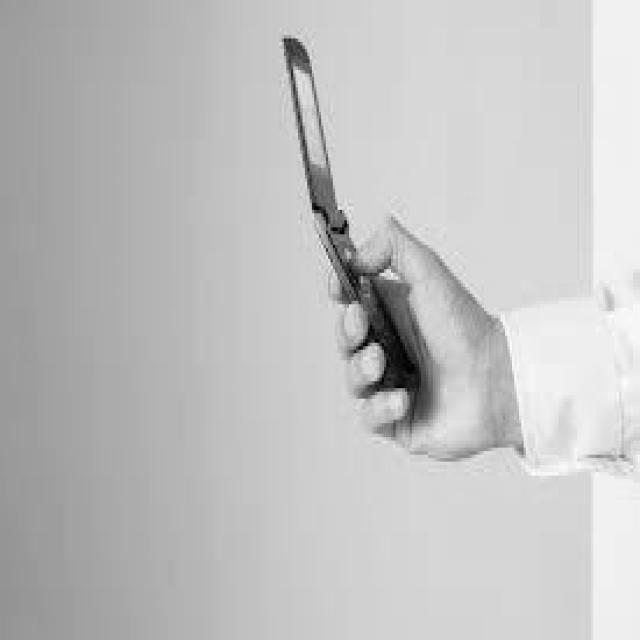No gun_phone: (284, 43, 419, 395)
